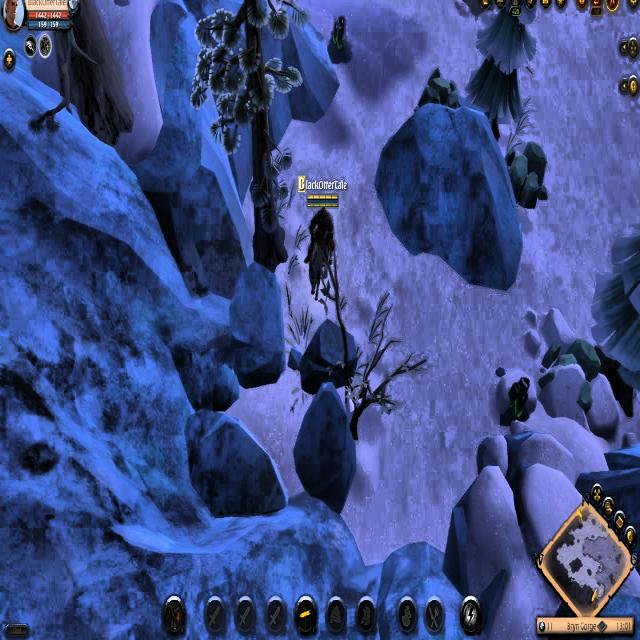sandstone: (542, 334, 604, 420), (506, 138, 549, 206), (415, 66, 464, 118)
tinore: (496, 372, 534, 432), (326, 12, 352, 64)
